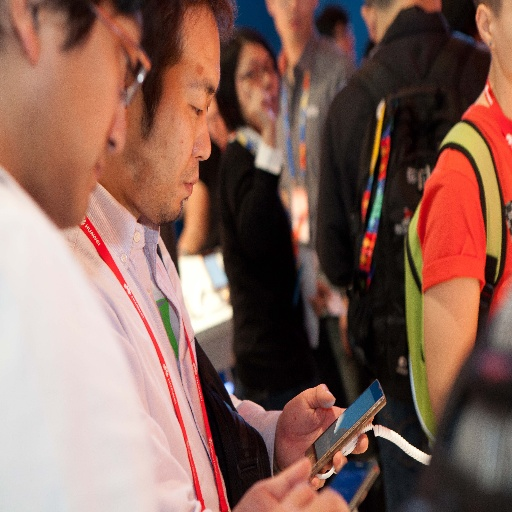hand: (274, 380, 370, 477), (230, 456, 349, 511), (245, 84, 278, 128), (308, 278, 332, 316)
